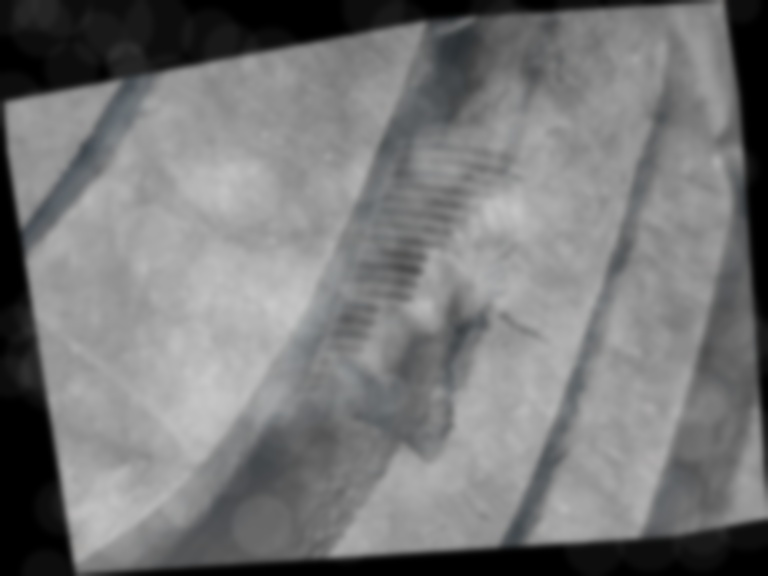temoin:80: (244, 103, 603, 501)
